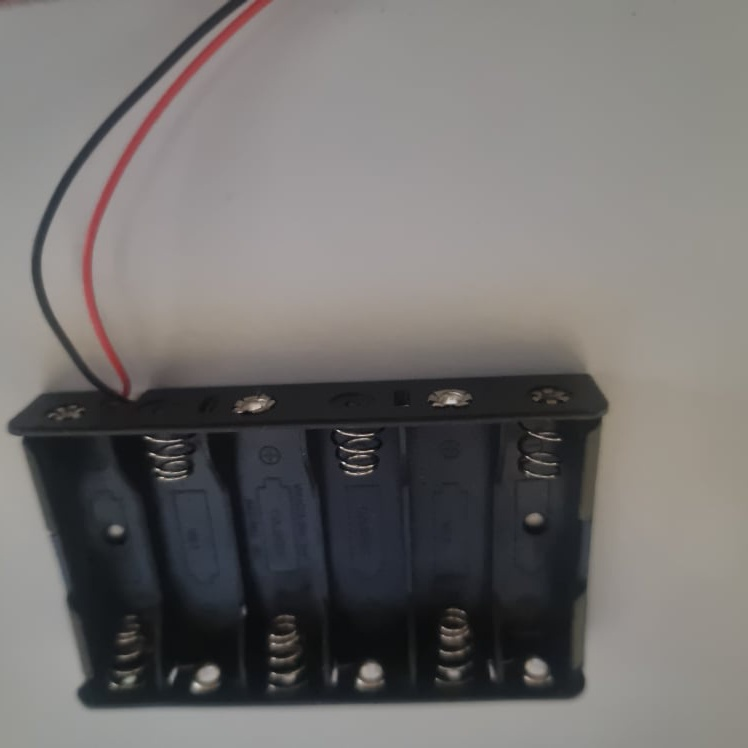BATTERY BOX: (8, 372, 612, 713)
